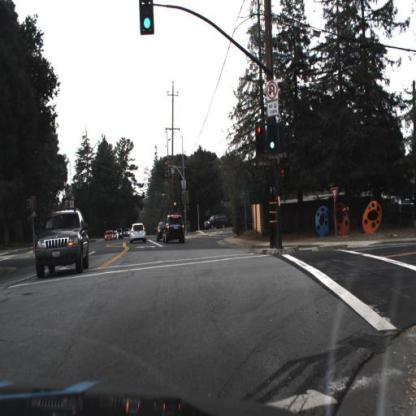car: (34, 208, 91, 280), (163, 214, 187, 245), (204, 213, 230, 231), (129, 223, 148, 245), (157, 222, 165, 247), (106, 230, 114, 242)
trafficLight-Green: (141, 1, 155, 35), (268, 119, 279, 153)
trafficLight-Red: (254, 117, 265, 153)
